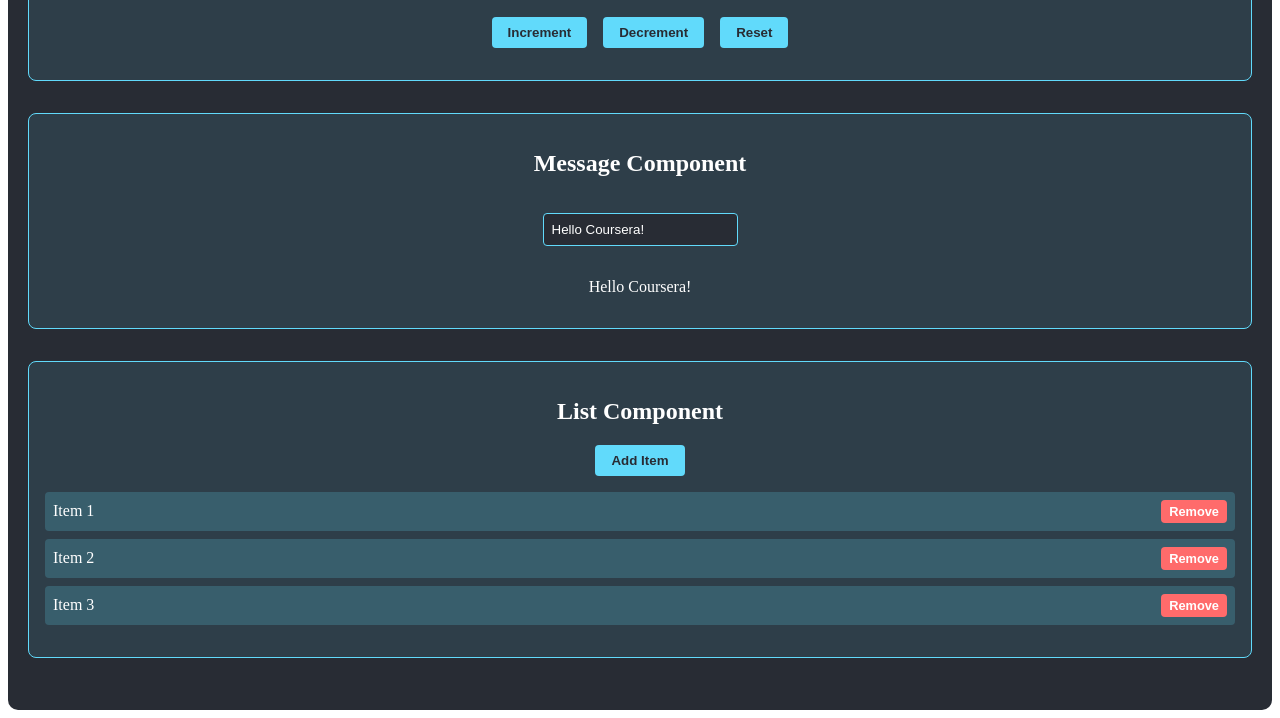
Test: App Component Tests › removes items
The image size is (1280, 718).
(page scrolled)
Click the button with test id "remove-item-0" at [1194, 512], box [1161,500,1227,523]
(page scrolled)
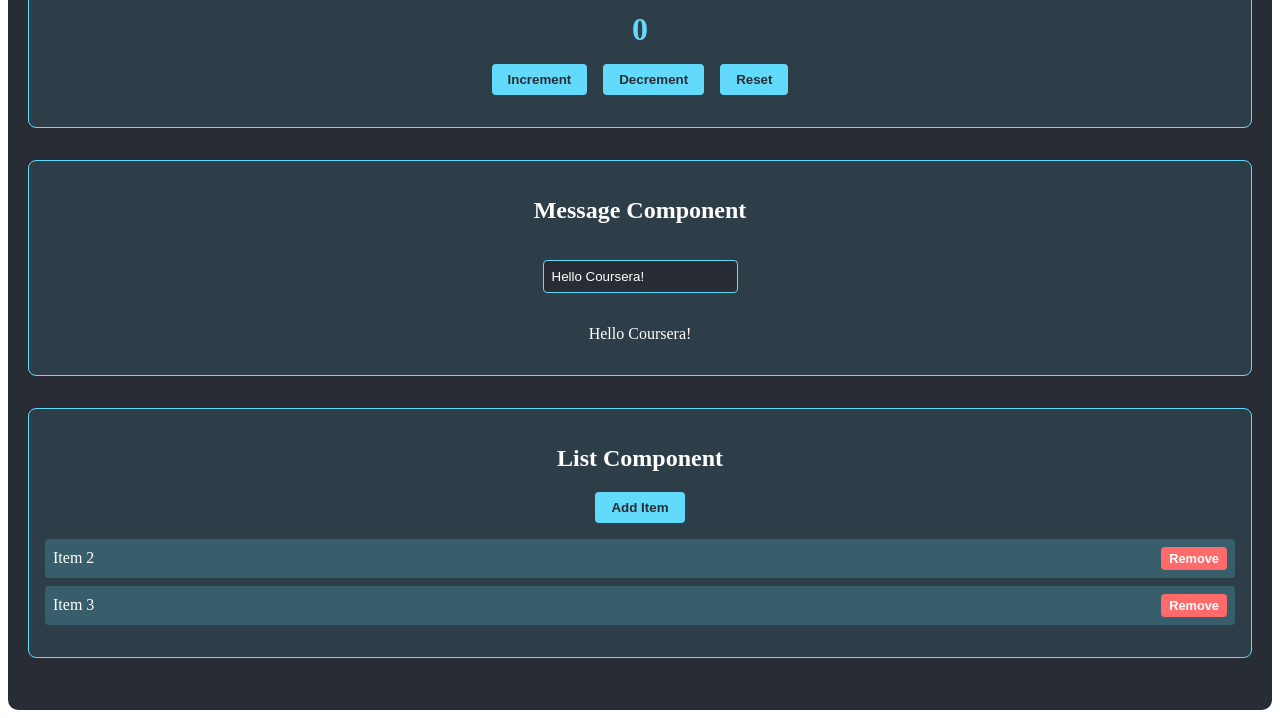
Check: the list item with test id "item-list" shows "Item 2", box [53,549,94,566]
Check: the list item with test id "item-list" no longer shows "Item 1"
